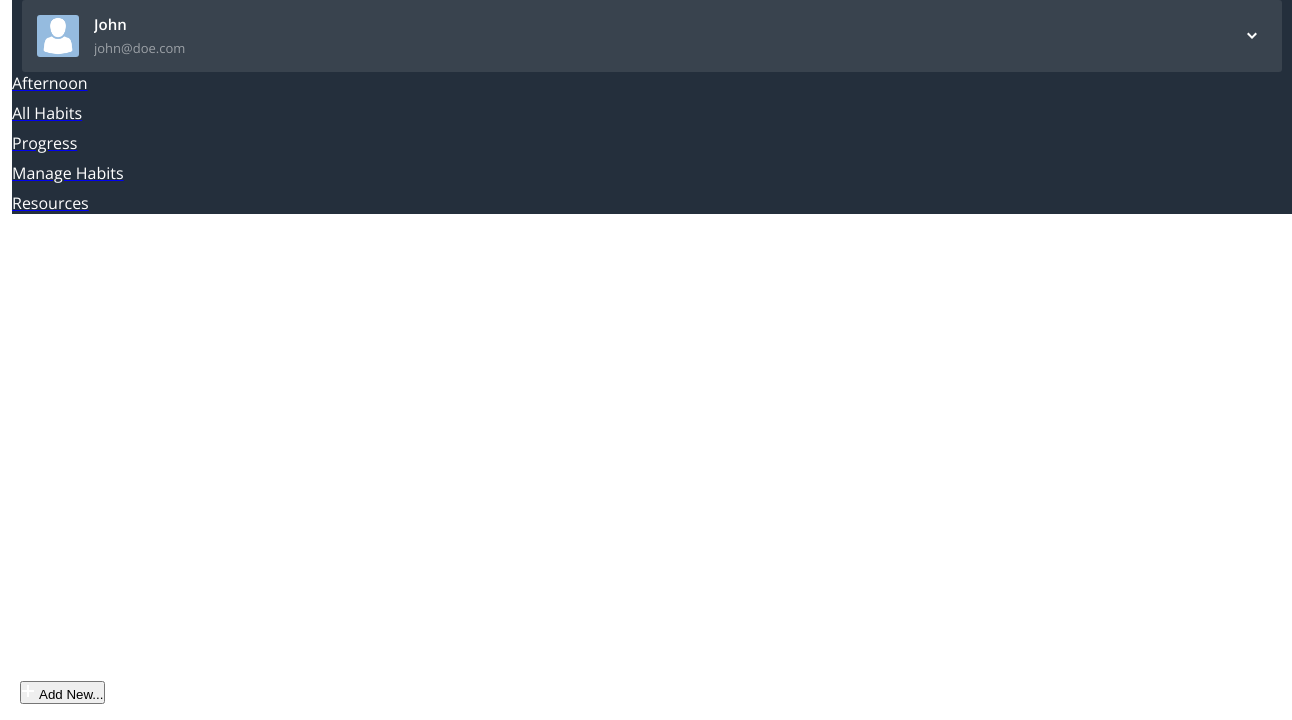
it: Should collapse button list when button is clicked again
Expected: the text "Add Area" is not shown
Click the button "Add New..." at x=63, y=692, box 20,681 -> 106,704
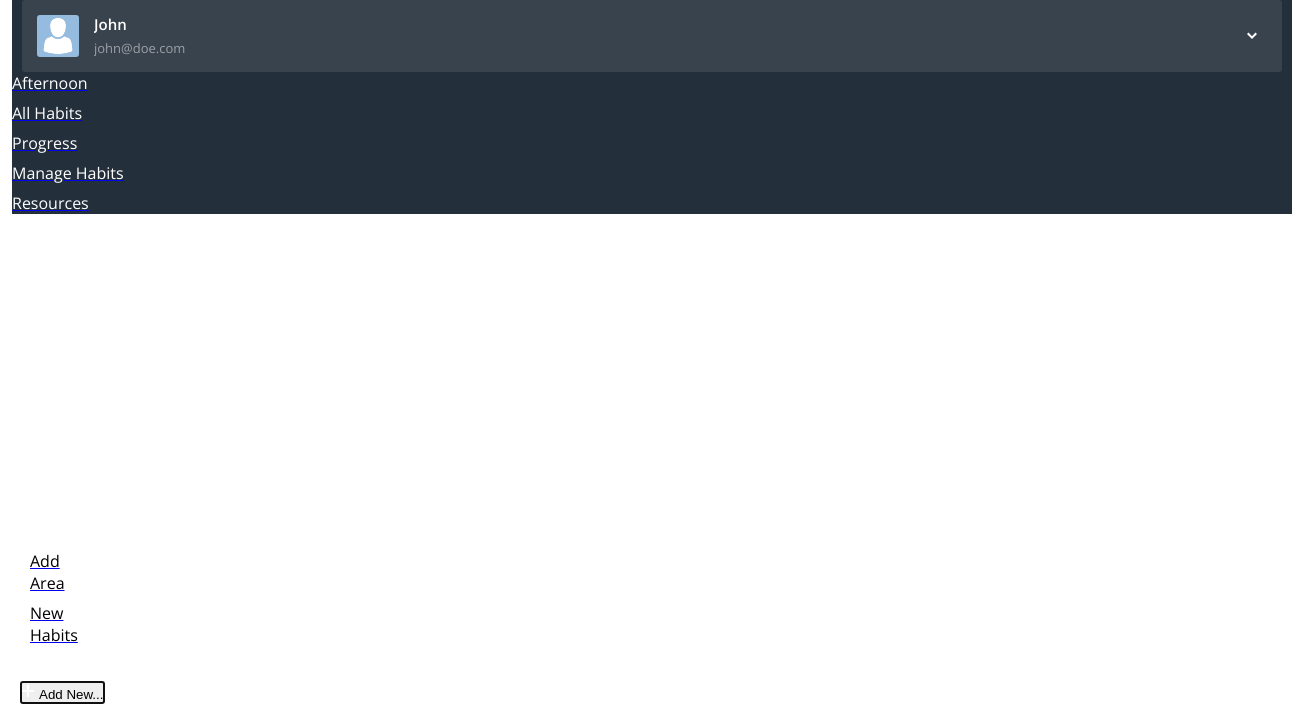
Result: the text "Add Area" is shown at 30,550 -> 64,594
Click the button "Add New..." at x=63, y=692, box 20,681 -> 106,704
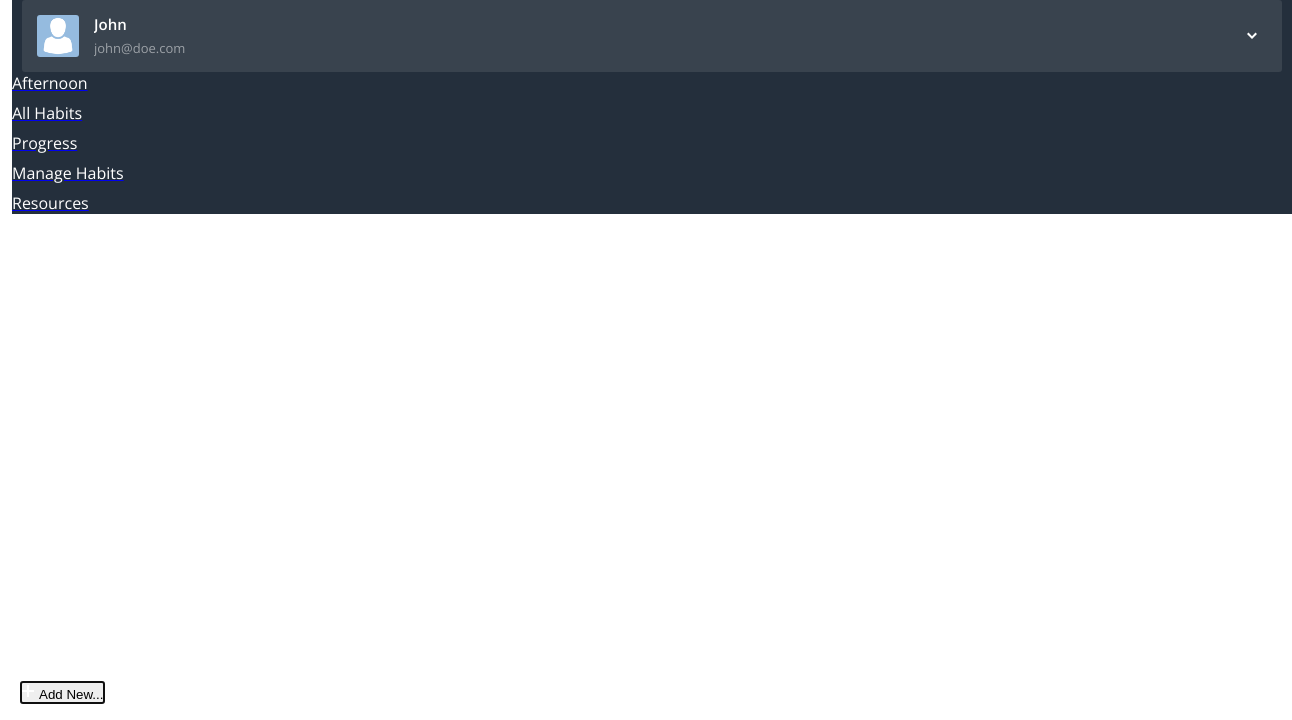
Result: the menu item "Add Area" is gone
